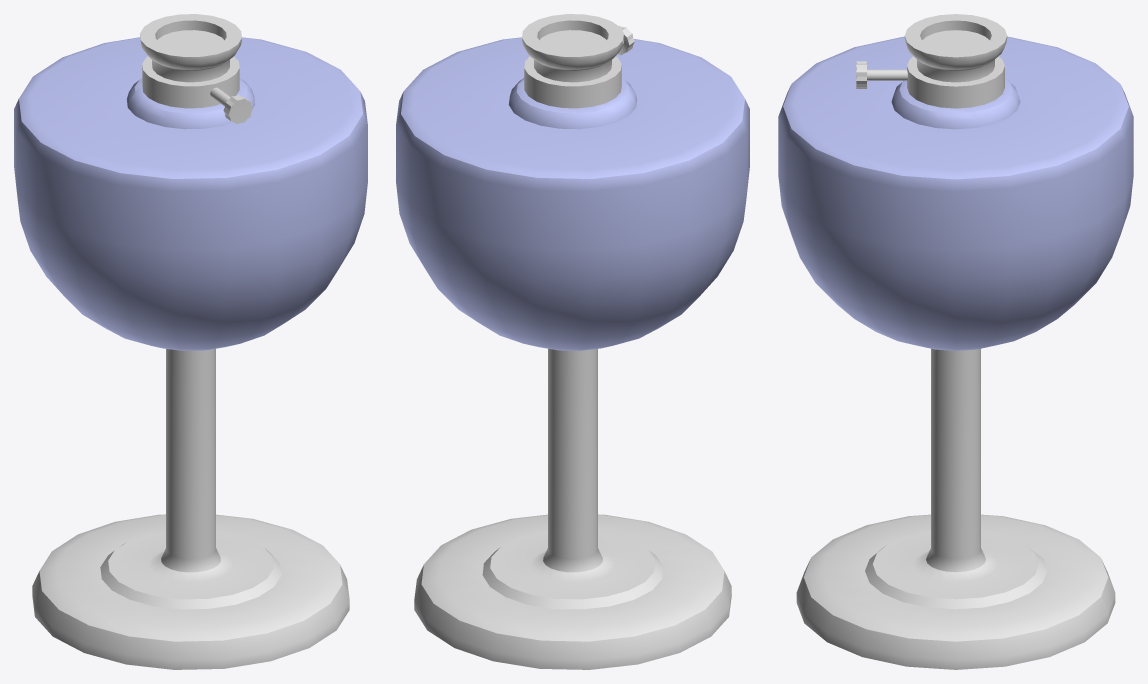
File: Mesh_lampara_de_aceite.fbx
The picture shows the model from 3 angles, left to right: view 1: azimuth 30°, elevation 25°; view 2: azimuth 150°, elevation 25°; view 3: azimuth 270°, elevation 25°; orthographic projection.
Parts seen in each view (by area): view 1: pasted__pCylinder2; view 2: pasted__pCylinder2; view 3: pasted__pCylinder2.
Part boxes in pixels (box(x1,y1,x2,y2)): pasted__pCylinder2: box(14, 14, 367, 669); pasted__pCylinder2: box(396, 14, 749, 669); pasted__pCylinder2: box(778, 14, 1133, 669).
Bounding box in the file's own units: 1.78 × 3.13 × 1.78.
